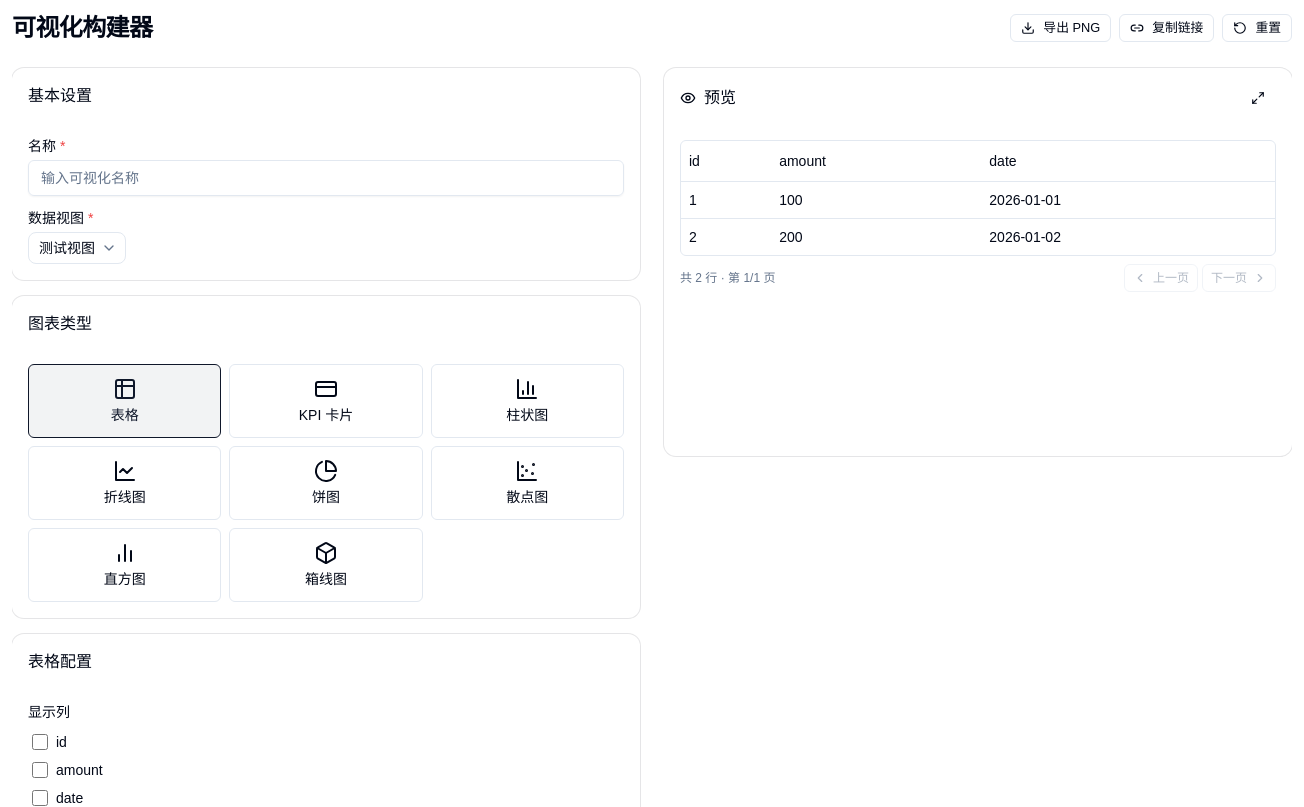
Test: VisualizationBuilderPage › shows the histogram config panel with bins input when 直方图 is selected
Click the button "直方图". click: [125, 565]
box: x1=28 y1=528 x2=221 y2=602
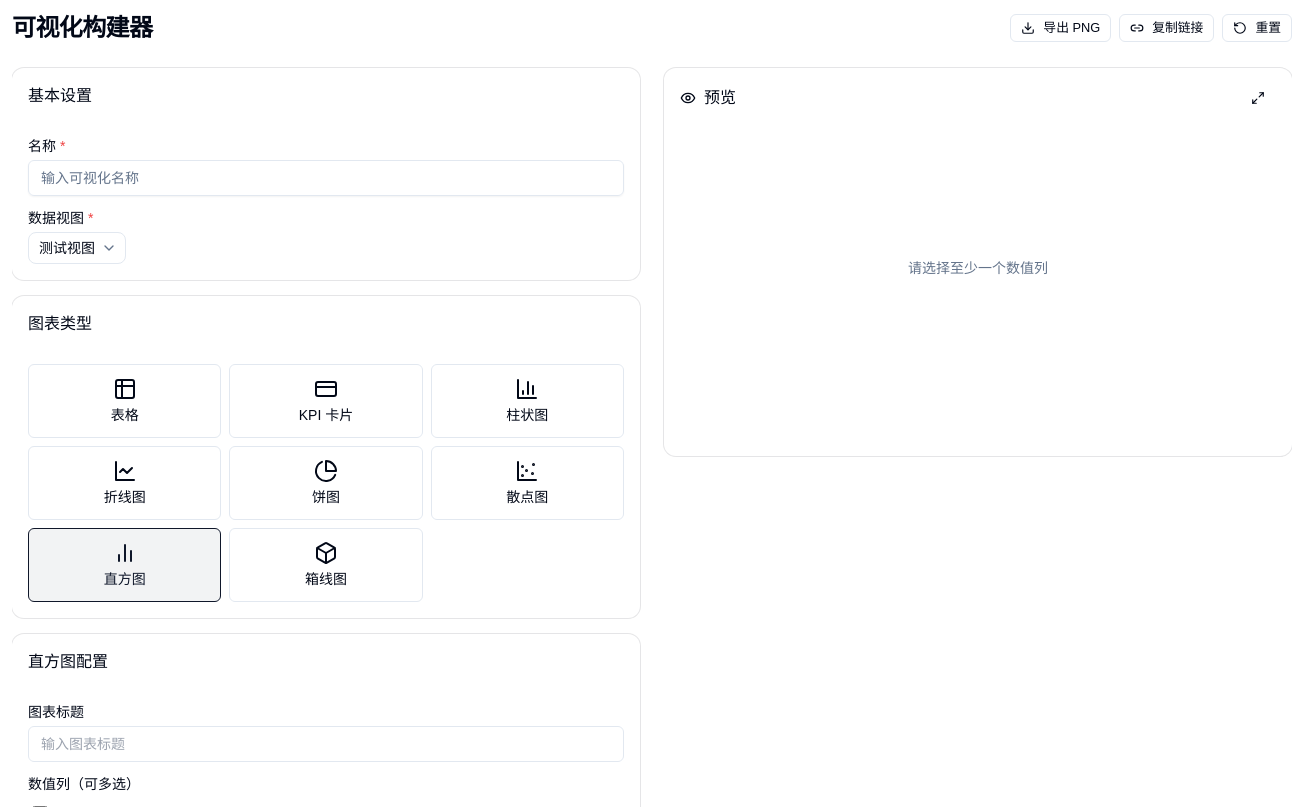
Check: the text "直方图配置" is shown, box x1=28 y1=653 x2=108 y2=670
Check: the text "数值列（可多选）" is shown, box x1=28 y1=776 x2=140 y2=792
